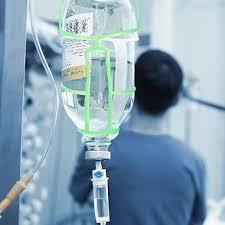Iv_Bottle: (62, 0, 136, 145)
